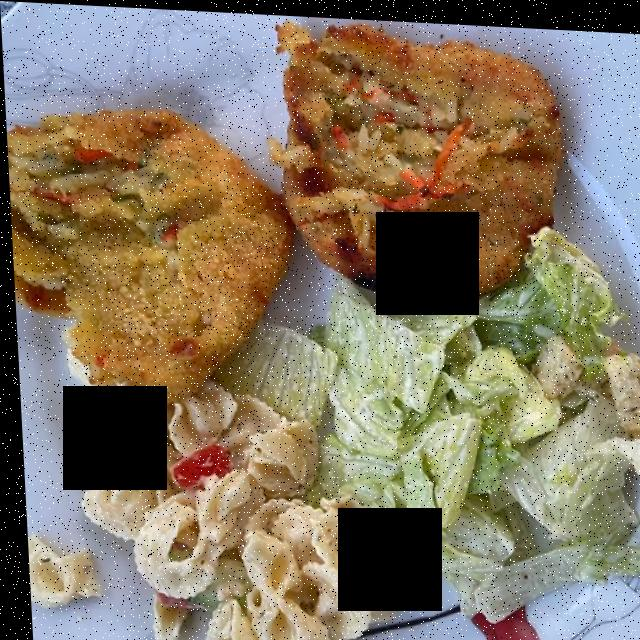french-salad-dressing: (321, 305, 515, 481)
salad-leaf-salad-green: (219, 228, 640, 620)
